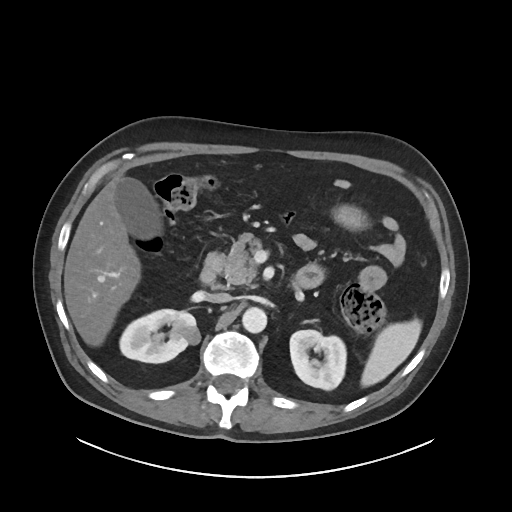Lesion: (177, 321, 205, 346)
